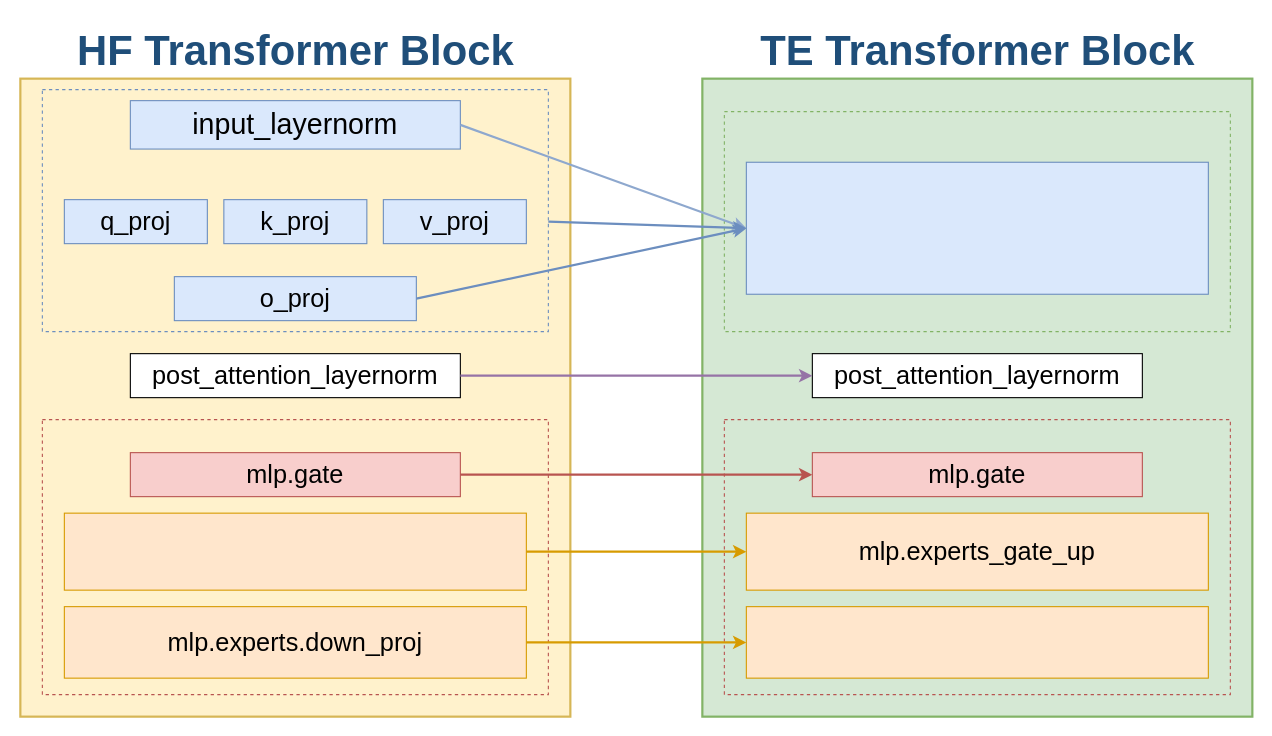
This 1272x736 diagram has some shape labels left out. The shapes that lost their labels are listed below. From the top down, each one's centre as x and y in pixels, then its label:
At pixel 976 227: "layernorm_qkv.layer_norm query, key, value self_attention.proj".
At pixel 294 551: "mlp.experts.gate_up_proj".
At pixel 976 642: "mlp.experts_down".
